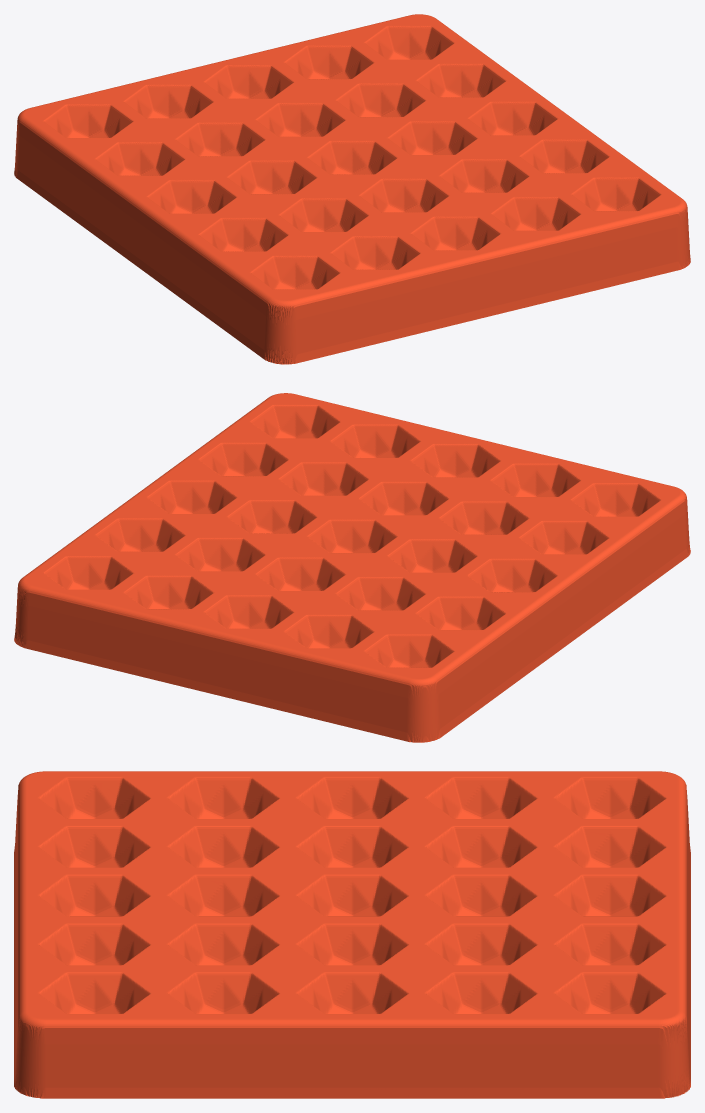
File: mold.glb
3 renders of one model, top to bottom at view 1: azimuth 30°, elevation 25°; view 2: azimuth 150°, elevation 25°; view 3: azimuth 270°, elevation 25°, orthographic. The views are drawn at different scales.
Visible parts, largest first — view 1: geometry_0; view 2: geometry_0; view 3: geometry_0.
Boxes of the visible parts, left/top/right/bottom form: geometry_0: left=14, top=14, right=690, bottom=364; geometry_0: left=14, top=393, right=690, bottom=742; geometry_0: left=14, top=771, right=690, bottom=1098.
Bounding box in the file's own units: 0.1739 × 0.0233 × 0.193.
